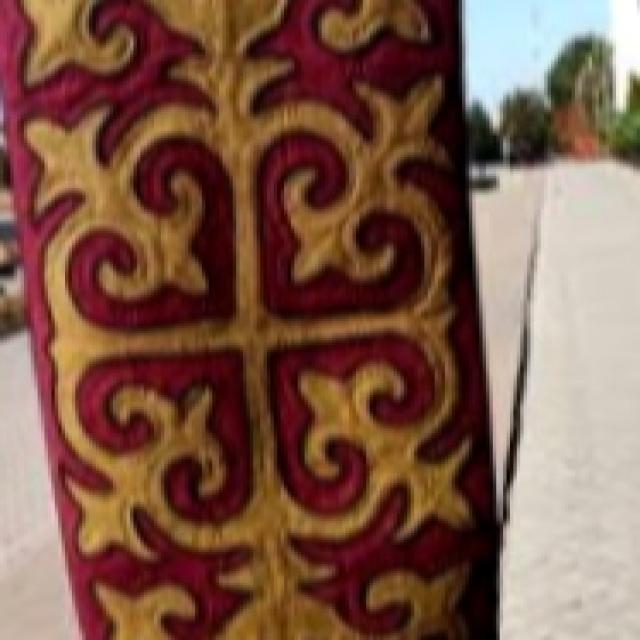Unity: (3, 69, 497, 580)
